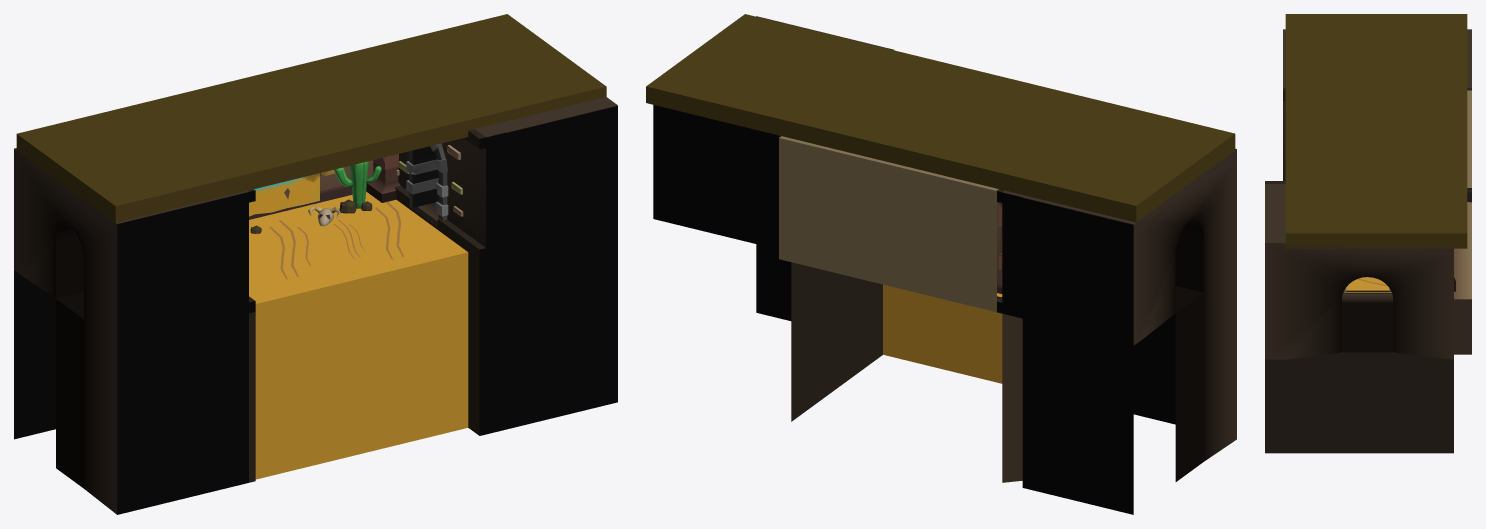
The model's file is Western Room.fbx.
The picture shows the model from 3 angles, left to right: view 1: azimuth 30°, elevation 25°; view 2: azimuth 150°, elevation 25°; view 3: azimuth 270°, elevation 25°; orthographic projection. The views are drawn at different scales.
Visible parts, largest first — view 1: Western_Room; view 2: Western_Room; view 3: Western_Room.
Part boxes in pixels (x1,y1,x2,y2): Western_Room: (14, 14, 617, 514); Western_Room: (646, 14, 1236, 514); Western_Room: (1265, 14, 1471, 453).
Size of the model in its own units: 15.73 by 9.42 by 6.27.
